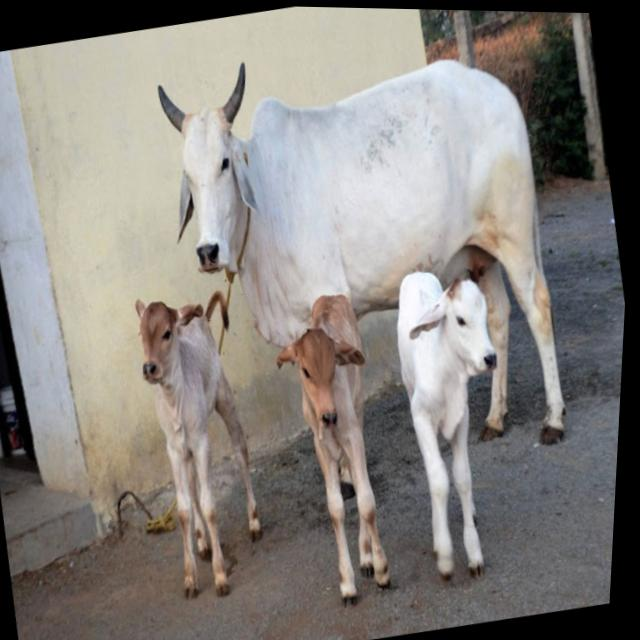cowFace: (138, 55, 283, 282), (270, 300, 386, 436), (408, 265, 513, 387), (127, 283, 223, 390)
